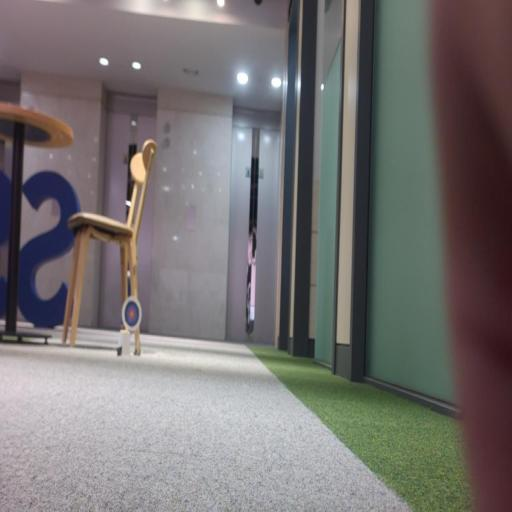target: (122, 296, 141, 332)
